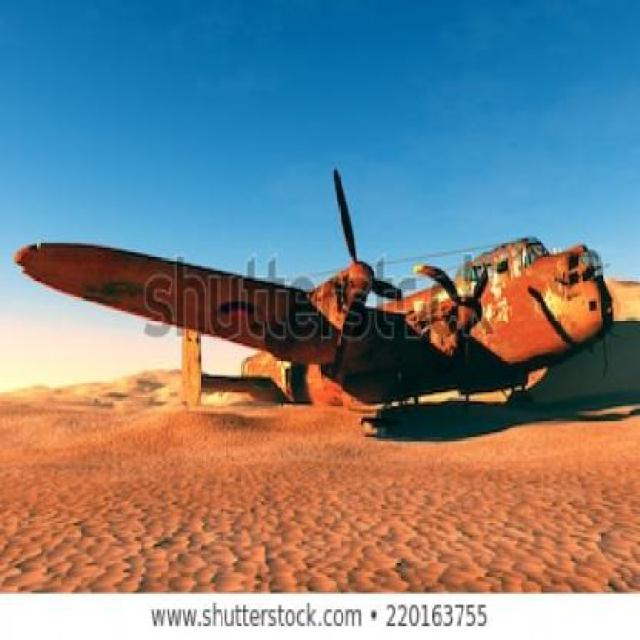corrosion: (17, 236, 615, 404)
